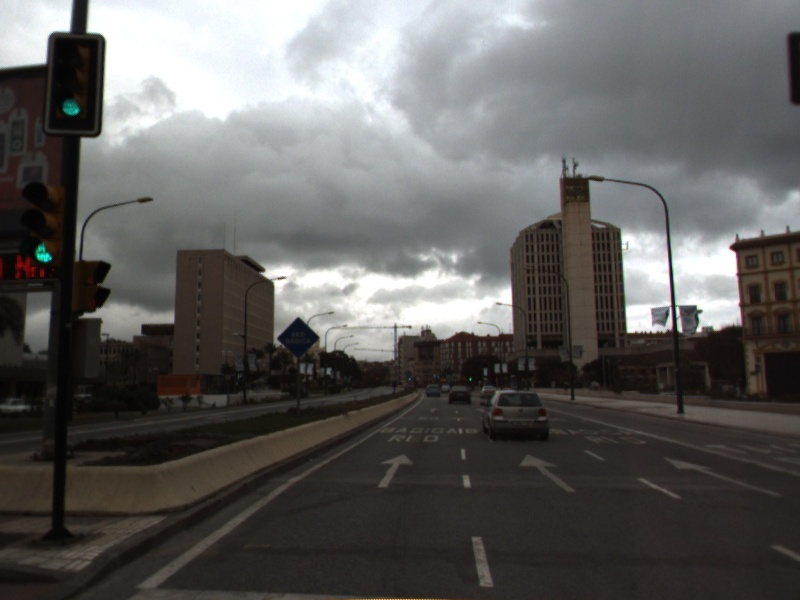STRAIGHT: (661, 455, 785, 500), (516, 452, 578, 494), (375, 451, 416, 490)
